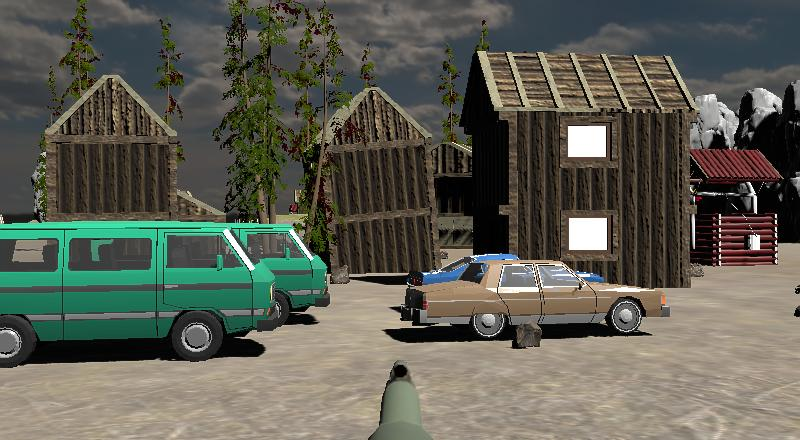House: (461, 50, 696, 285), (304, 87, 439, 276), (41, 75, 179, 218)
car: (0, 223, 273, 362), (402, 259, 671, 334), (166, 222, 331, 322), (403, 250, 528, 304)
